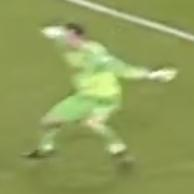goalkeeper: (16, 14, 185, 177)
